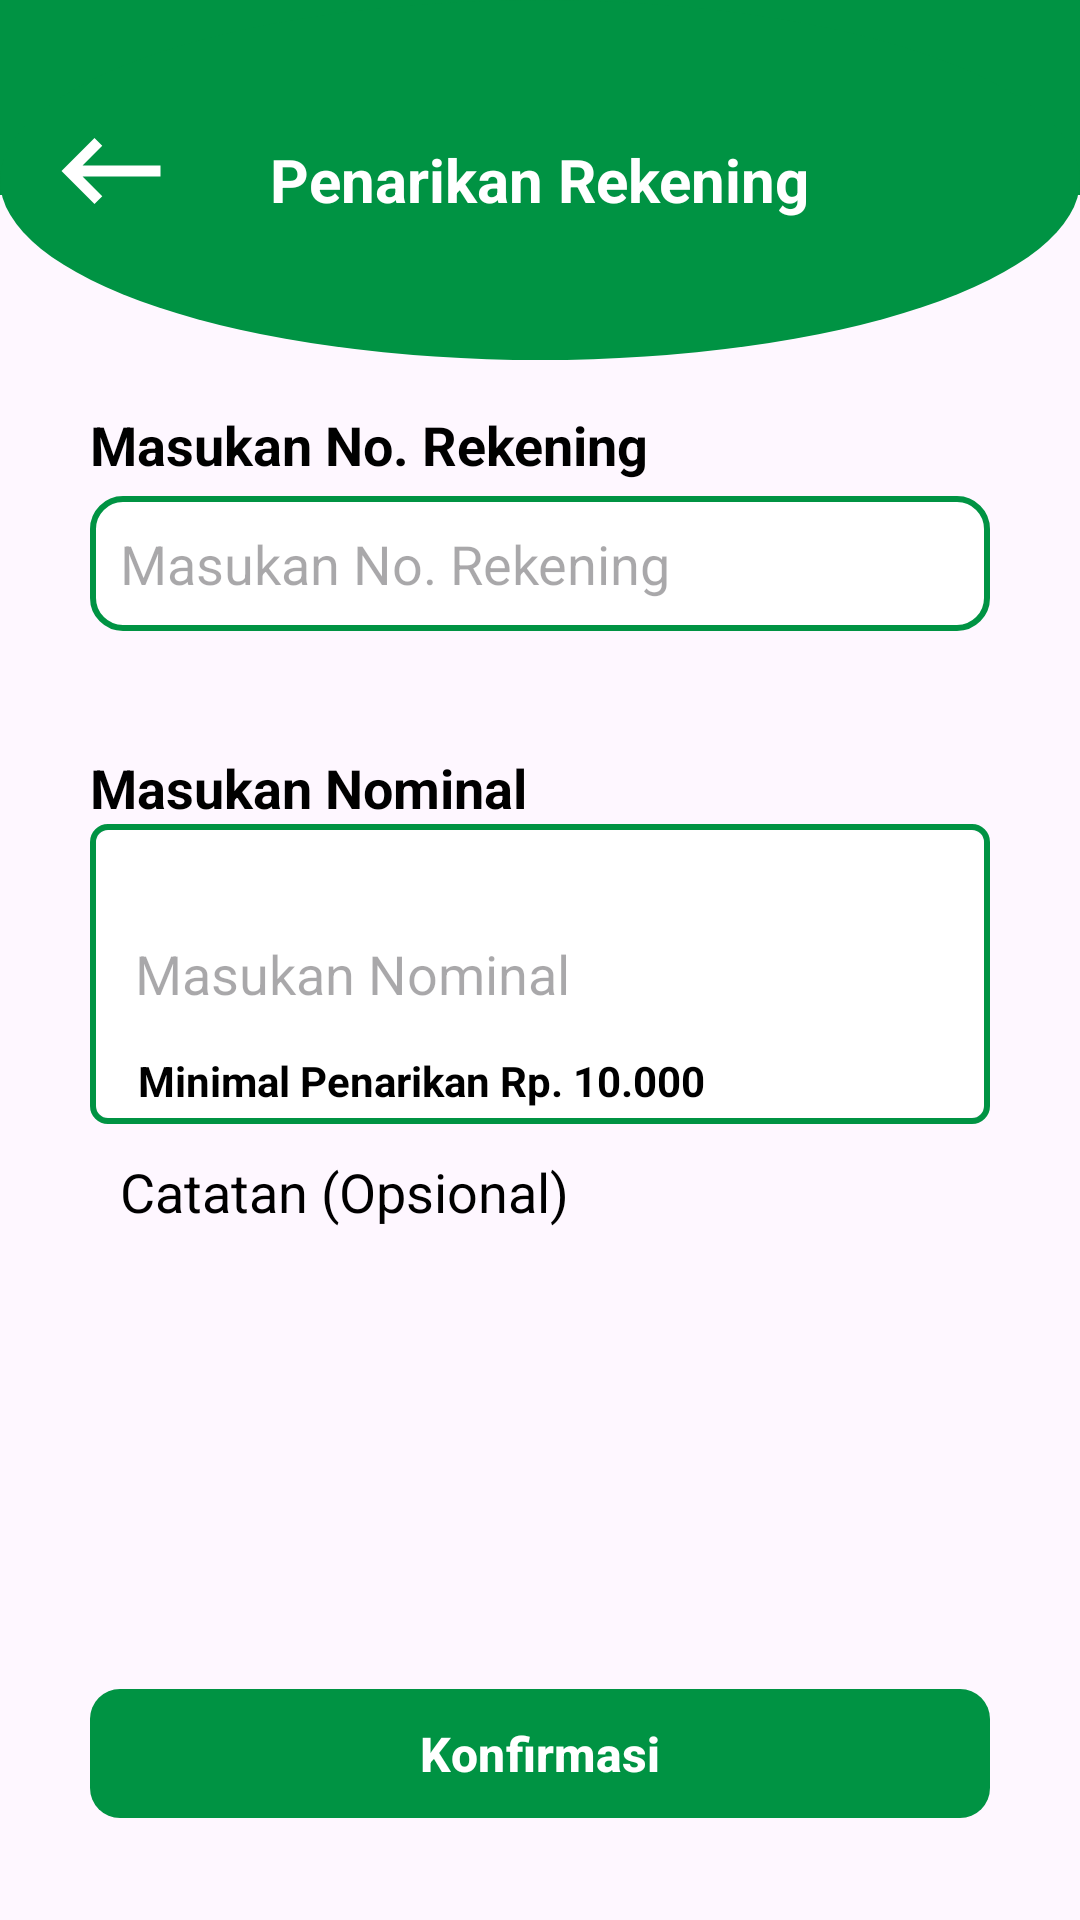

Point at icon controls on the screen. Image size 1080 x 1920, points as [x,y].
keyboard backspace: [111,171]
